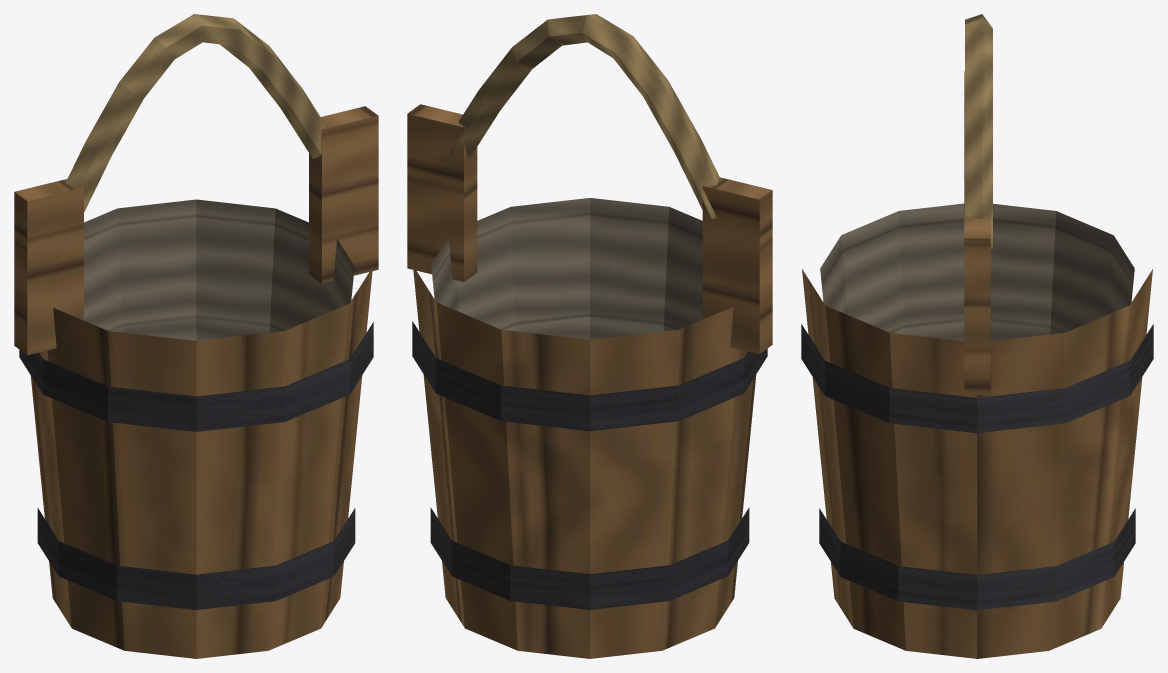
The model's file is prop_emmer.glb.
3 views of the same model, side by side, from view 1: azimuth 30°, elevation 25°; view 2: azimuth 150°, elevation 25°; view 3: azimuth 270°, elevation 25° (orthographic).
Visible parts, largest first — view 1: prop_emmer; view 2: prop_emmer; view 3: prop_emmer.
Part boxes in pixels (x1,y1,x2,y2): prop_emmer: (14,14,378,658); prop_emmer: (407,14,772,658); prop_emmer: (801,14,1153,658).
Bounding box in the file's own units: 0.31 × 0.4914 × 0.271.
1 material, 1 textured.
